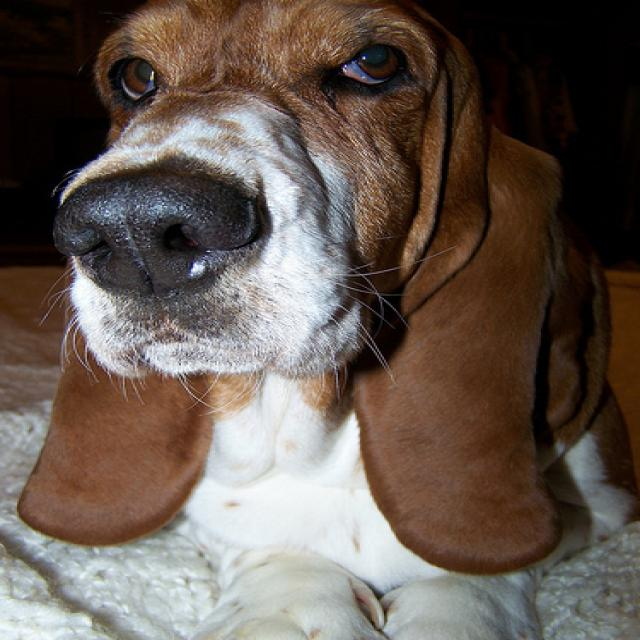dog-basset_hound: (9, 1, 637, 637)
